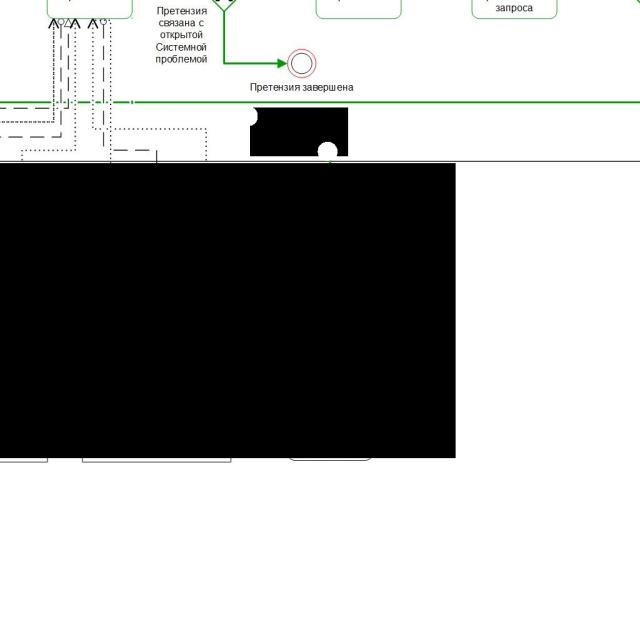arrow: (219, 11, 288, 71)
circle: (288, 49, 316, 78)
text_region: (151, 3, 209, 65), (247, 81, 355, 96)
